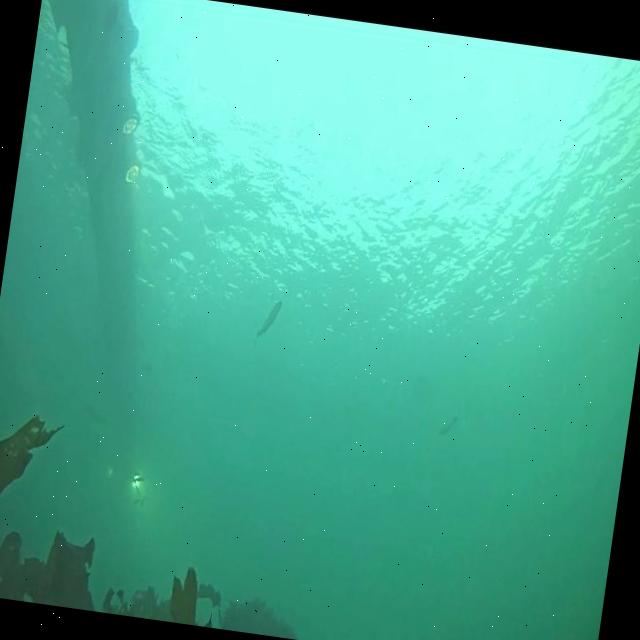fish: (253, 294, 284, 346), (78, 394, 116, 432), (436, 414, 459, 442)
